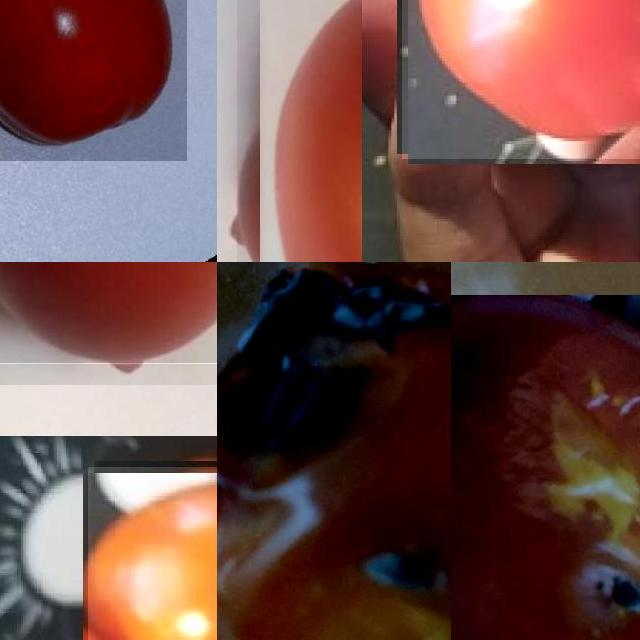Fresh Tomato: (402, 0, 640, 158), (237, 0, 362, 262), (0, 0, 186, 160), (88, 466, 217, 640), (0, 262, 217, 363)
Rotten Tomato: (217, 262, 451, 640), (451, 294, 640, 640)
